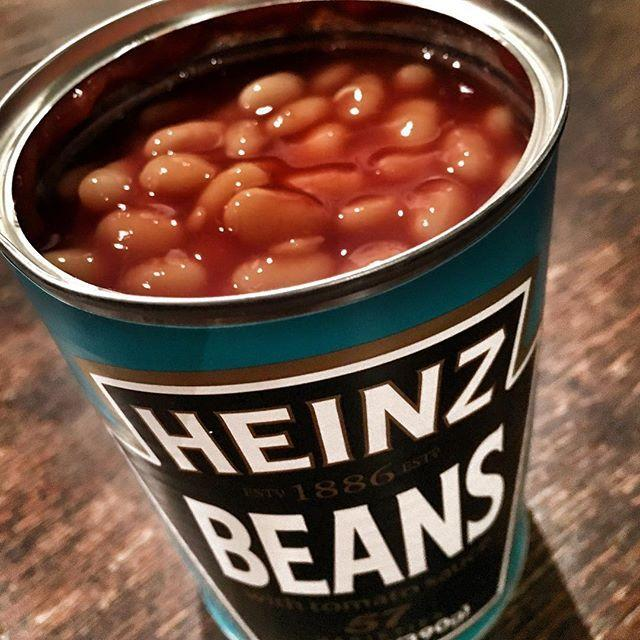beans: (224, 187, 328, 246), (187, 162, 269, 231), (95, 210, 182, 259), (232, 251, 334, 292), (408, 179, 472, 242), (119, 250, 206, 296), (139, 154, 215, 195), (238, 72, 304, 114), (144, 121, 223, 156), (443, 127, 494, 181), (286, 165, 363, 199), (78, 163, 132, 211), (267, 96, 330, 135), (387, 99, 439, 145), (334, 74, 384, 121), (291, 122, 348, 163), (338, 195, 399, 233), (45, 248, 107, 285), (138, 98, 199, 130), (373, 152, 434, 181), (347, 241, 408, 269), (225, 120, 268, 158), (310, 63, 355, 94), (57, 165, 95, 200), (393, 64, 434, 92), (482, 105, 514, 139), (269, 236, 324, 255), (498, 154, 520, 183)
